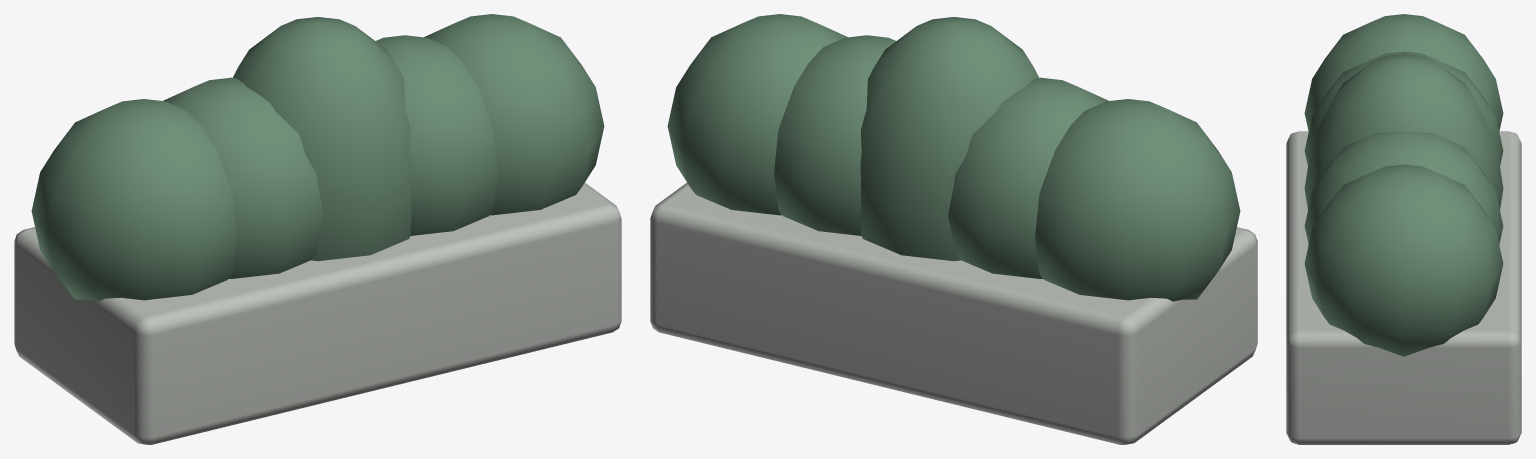
The model's file is obstacle_1.glb.
3 renders of one model, left to right at view 1: azimuth 30°, elevation 25°; view 2: azimuth 150°, elevation 25°; view 3: azimuth 270°, elevation 25°, orthographic. The views are drawn at different scales.
Parts seen in each view (by area): view 1: mousse, pierre; view 2: mousse, pierre; view 3: mousse, pierre.
Boxes of the visible parts, x1,y1,x2,y2 form: mousse: (31,14,604,301); pierre: (14,183,621,444); mousse: (667,14,1240,301); pierre: (650,183,1257,444); mousse: (1304,14,1503,356); pierre: (1286,131,1521,444).
Size of the model in its own units: 1.06 by 0.6 by 0.45.
